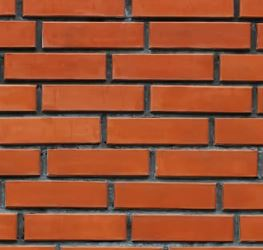brick: (110, 52, 217, 85), (132, 211, 235, 245), (40, 18, 144, 50), (20, 213, 129, 243), (40, 83, 145, 114), (150, 85, 255, 116), (148, 20, 254, 49), (1, 115, 103, 145), (4, 52, 108, 81), (154, 149, 260, 177), (105, 117, 210, 145), (45, 149, 150, 177), (112, 181, 217, 209), (5, 180, 110, 207), (131, 1, 236, 17), (20, 1, 129, 16), (213, 118, 263, 146), (219, 53, 263, 83), (222, 182, 263, 211), (1, 148, 43, 175), (1, 83, 37, 114), (1, 20, 37, 50), (238, 214, 262, 244)
